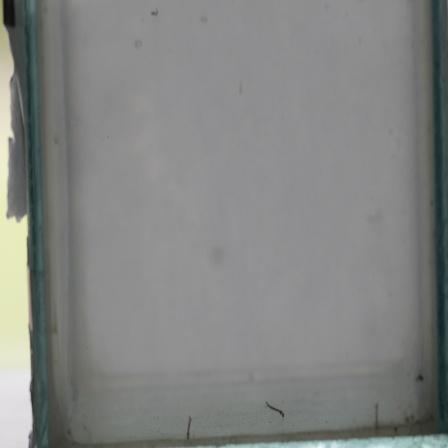Jentik-Nyamuk: (263, 398, 287, 420), (182, 414, 195, 442)
